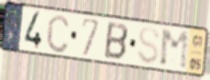4: (23, 10, 44, 52)
7: (81, 16, 101, 59)
B: (103, 20, 130, 63)
C: (45, 13, 72, 55)
M: (159, 28, 191, 72)
S: (136, 25, 162, 67)
